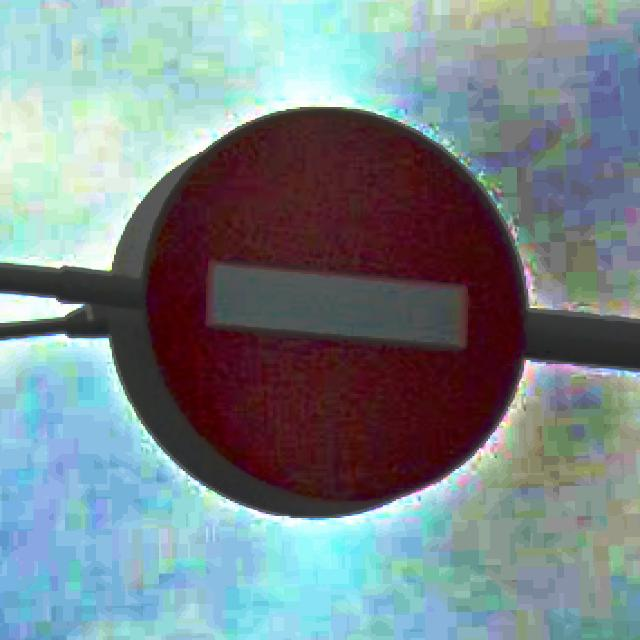noentry: (104, 101, 531, 519)
